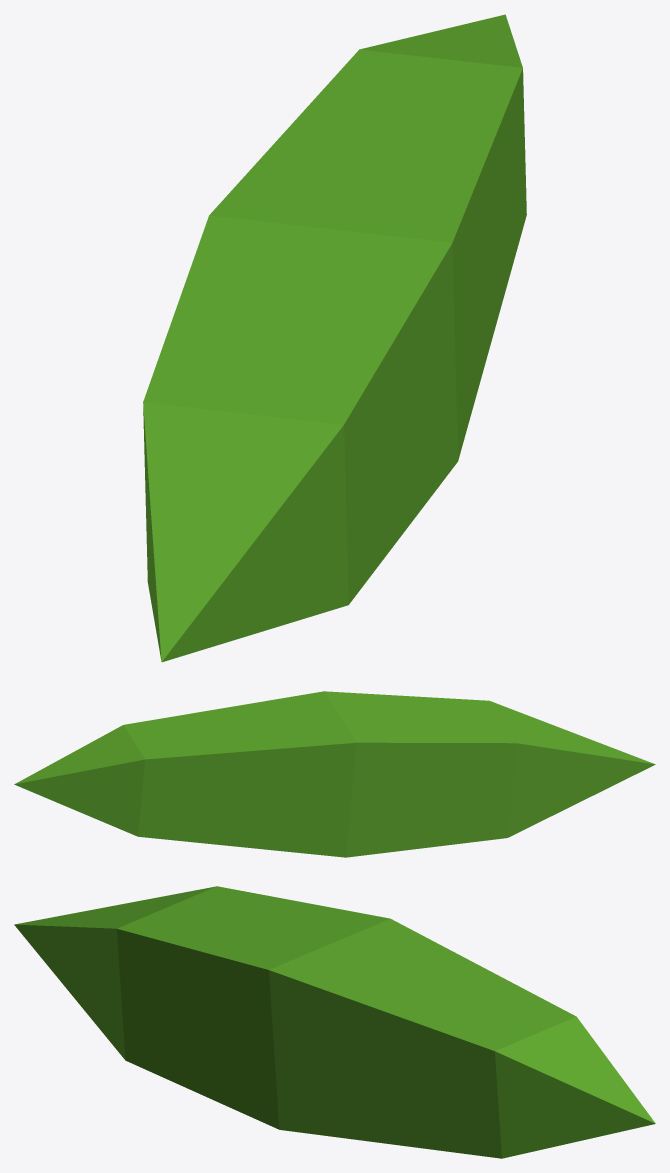
The model's file is Crystal_Colour.fbx.
3 views of the same model, one above another, from view 1: azimuth 30°, elevation 25°; view 2: azimuth 150°, elevation 25°; view 3: azimuth 270°, elevation 25° (orthographic). The views are drawn at different scales.
Parts seen in each view (by area): view 1: CrystalCore.008; view 2: CrystalCore.008; view 3: CrystalCore.008.
Boxes of the visible parts, bbox=[...] form: CrystalCore.008: bbox=[143, 14, 526, 662]; CrystalCore.008: bbox=[14, 691, 655, 857]; CrystalCore.008: bbox=[14, 886, 655, 1158].
Size of the model in its own units: 19.56 by 5.38 by 19.56.
